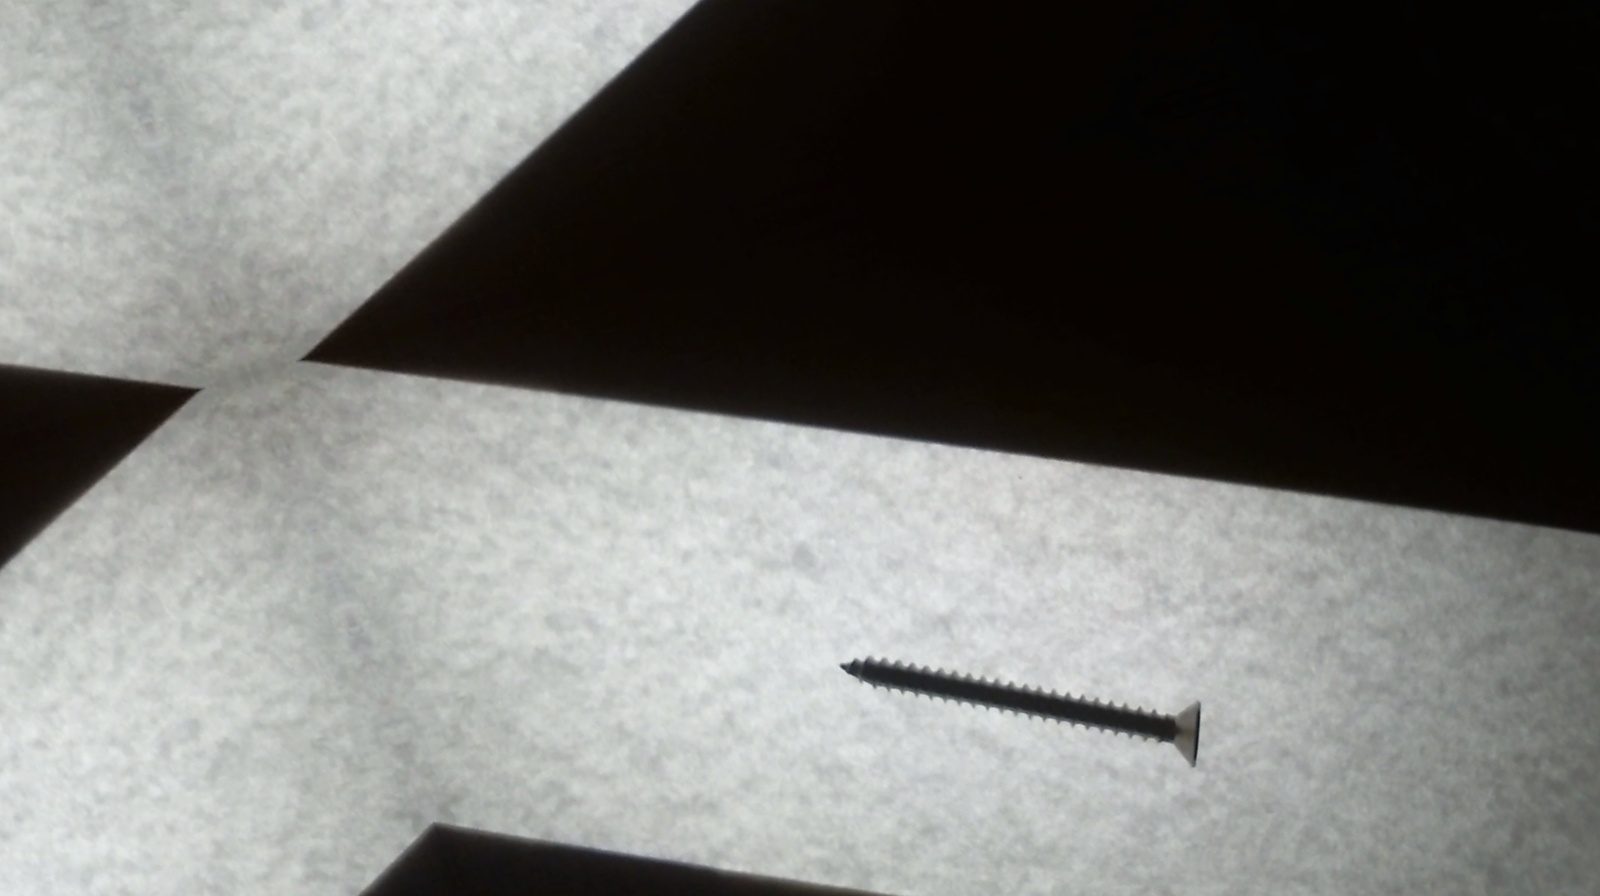S002: (797, 522, 1254, 865)
